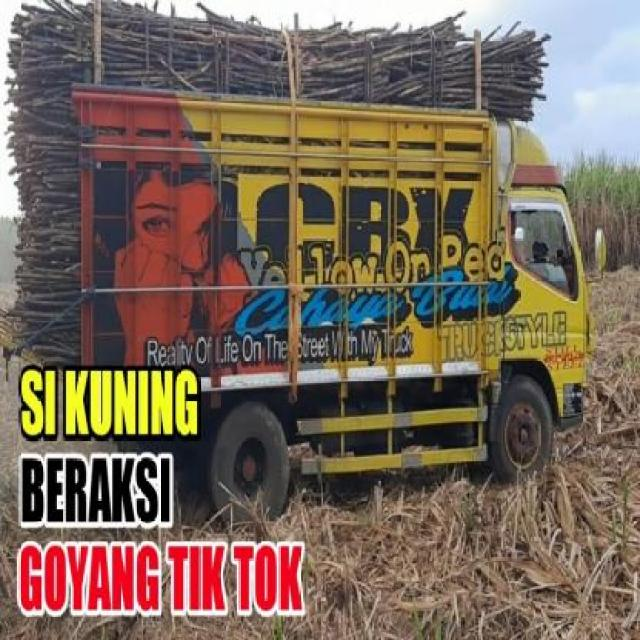truck: (76, 86, 610, 514)
